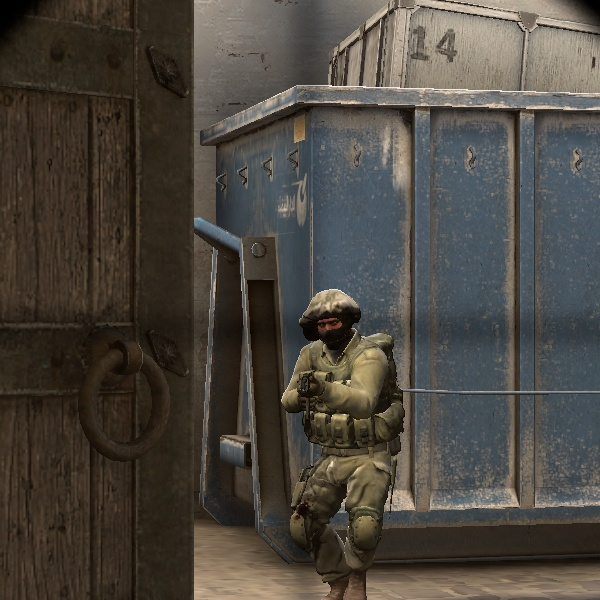ct_body: (253, 293, 415, 598)
ct_head: (301, 295, 366, 360)
